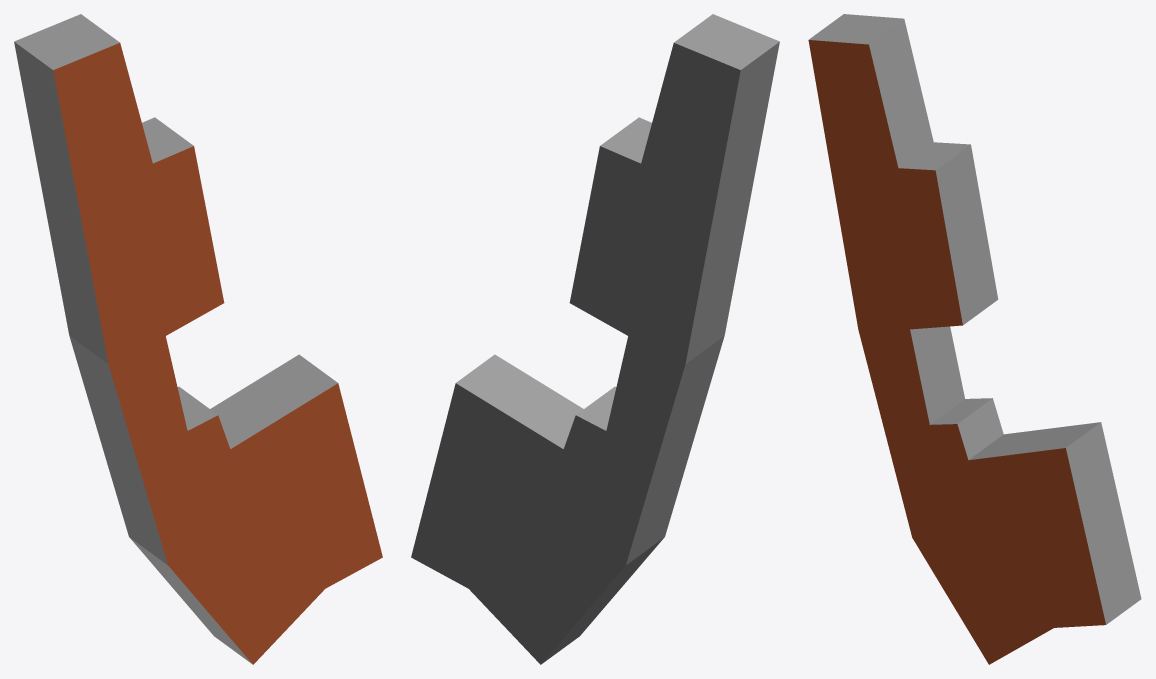
The model's file is construction_3561_assumed_A_Casa_h6m.obj.
3 views of the same model, side by side, from view 1: azimuth 30°, elevation 25°; view 2: azimuth 150°, elevation 25°; view 3: azimuth 330°, elevation 25° (orthographic). The views are drawn at different scales.
Visible parts, largest first — view 1: construction_3561_assumed_A_Casa; view 2: construction_3561_assumed_A_Casa; view 3: construction_3561_assumed_A_Casa.
Part boxes in pixels (x1,y1,x2,y2): construction_3561_assumed_A_Casa: [14, 14, 382, 664]; construction_3561_assumed_A_Casa: [411, 14, 779, 664]; construction_3561_assumed_A_Casa: [808, 14, 1141, 664].
Size of the model in its own units: 29.15 by 55.31 by 6.
